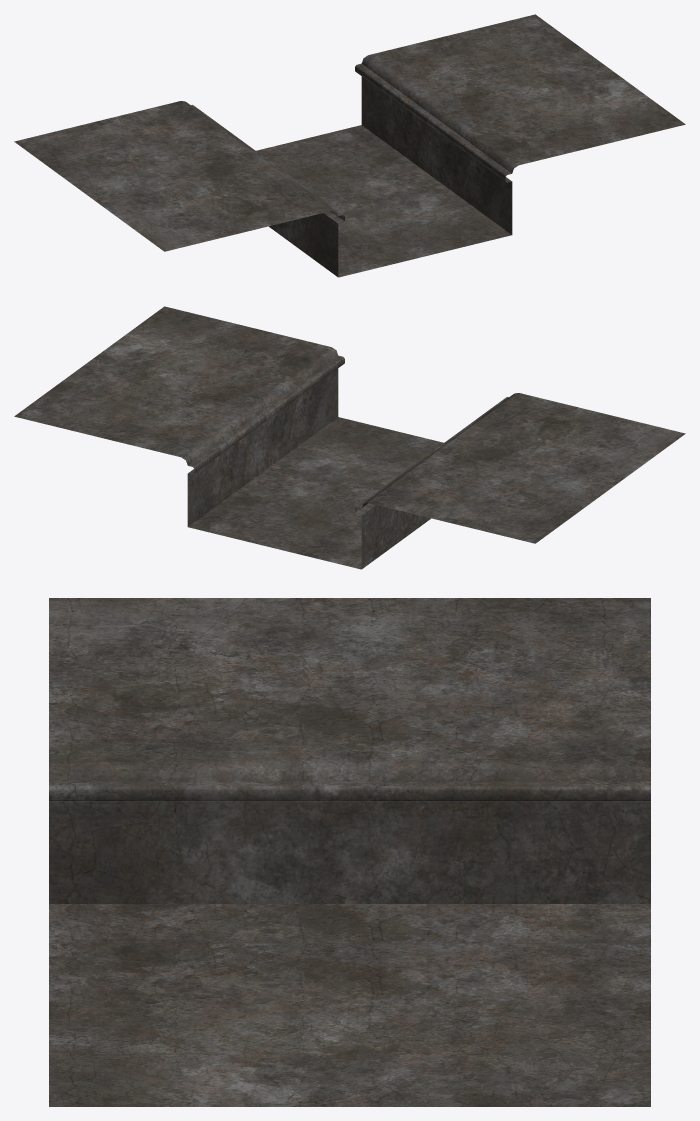
Rendered from Basement_Corridor_A_Floor_4x2m_Vent.glb.
3 views of the same model, one above another, from view 1: azimuth 30°, elevation 25°; view 2: azimuth 150°, elevation 25°; view 3: azimuth 270°, elevation 25° (orthographic). The views are drawn at different scales.
Visible parts, largest first — view 1: Basement_Corridor_A_Floor_4x2m_Vent; view 2: Basement_Corridor_A_Floor_4x2m_Vent; view 3: Basement_Corridor_A_Floor_4x2m_Vent.
Part boxes in pixels (x1,y1,x2,y2): Basement_Corridor_A_Floor_4x2m_Vent: (14,14,685,277); Basement_Corridor_A_Floor_4x2m_Vent: (14,306,685,569); Basement_Corridor_A_Floor_4x2m_Vent: (49,598,650,1106).
Bounding box in the file's own units: 4 × 0.5 × 2.
Materials: 1 (1 with a texture image).
